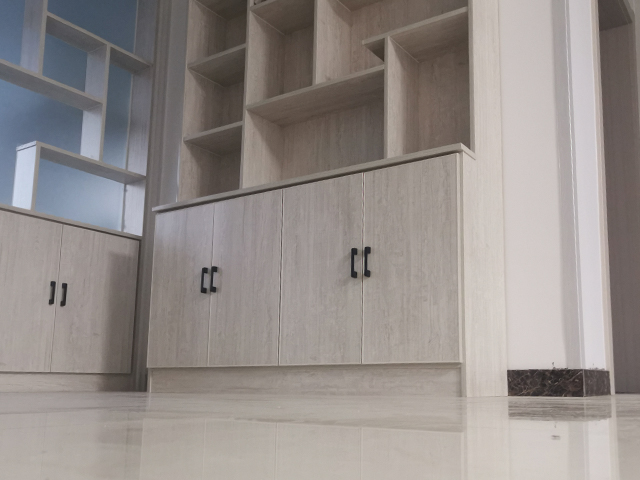cabinet: (143, 145, 489, 400), (1, 207, 142, 395)
